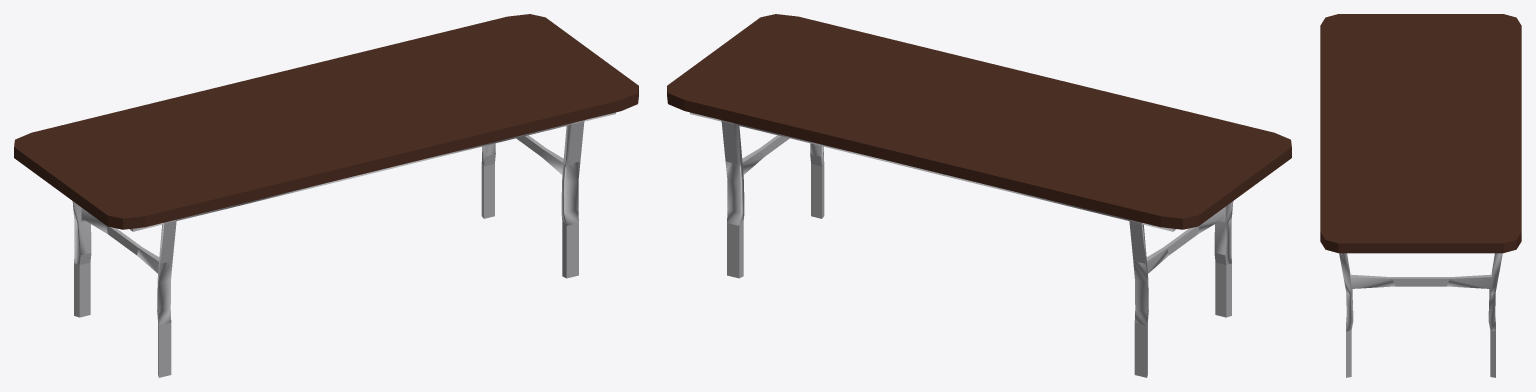
The model's file is FoldingTable.glb.
The picture shows the model from 3 angles, left to right: view 1: azimuth 30°, elevation 25°; view 2: azimuth 150°, elevation 25°; view 3: azimuth 270°, elevation 25°; orthographic projection. The views are drawn at different scales.
Visible parts, largest first — view 1: FoldingTable; view 2: FoldingTable; view 3: FoldingTable.
Part boxes in pixels (left/top/right/bottom): FoldingTable: left=14, top=14, right=638, bottom=377; FoldingTable: left=667, top=14, right=1291, bottom=377; FoldingTable: left=1320, top=14, right=1521, bottom=377.
Size of the model in its own units: 2.64 by 0.8499 by 0.9792.
Materials: 1 (1 with a texture image).
